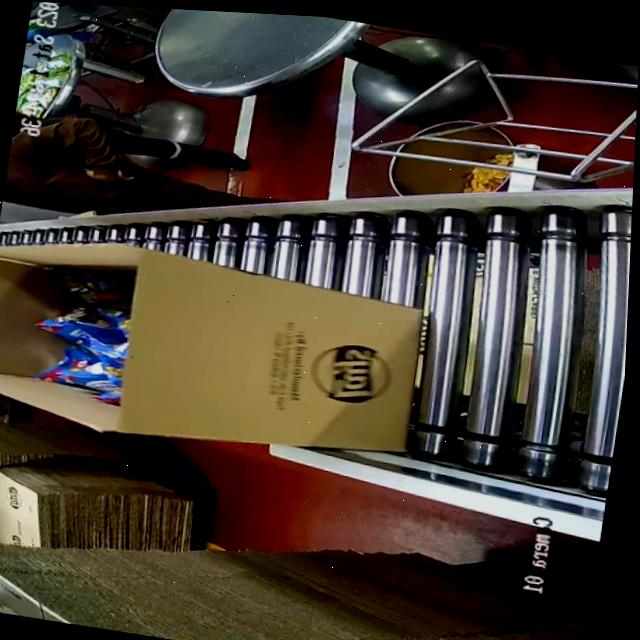PAPRIKA: (22, 262, 135, 406)
